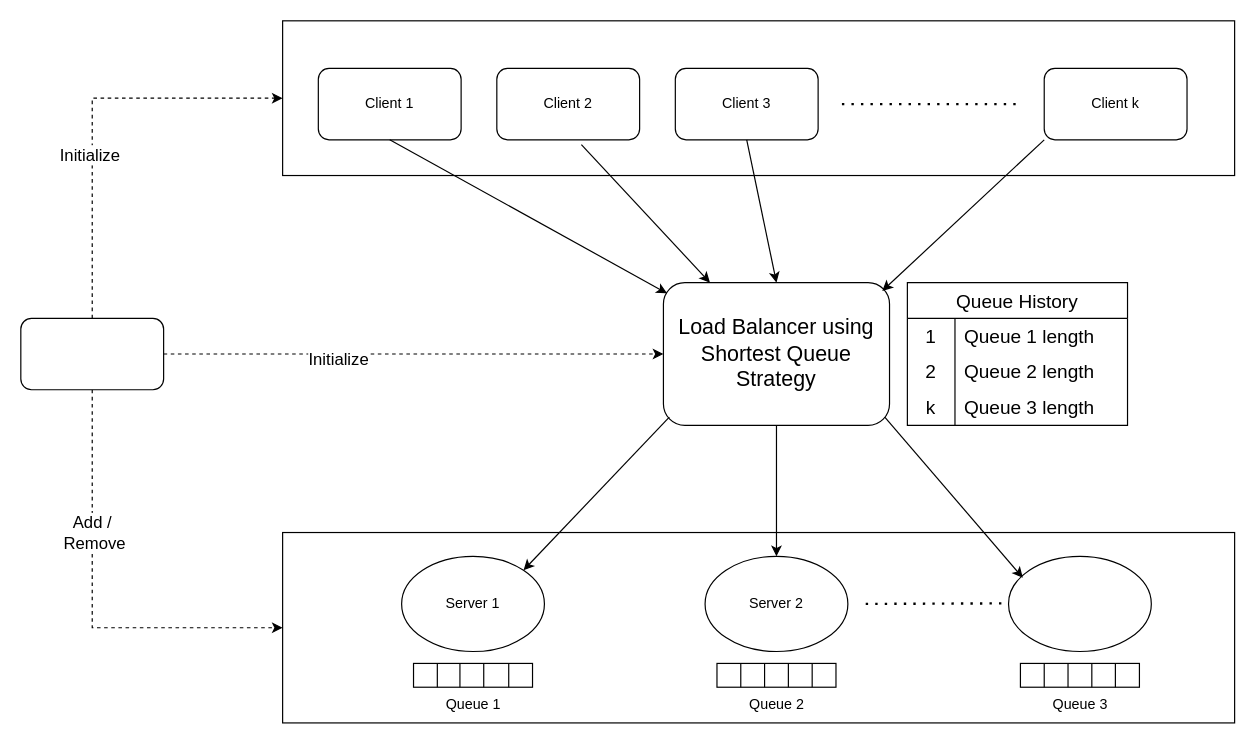
Some shapes in this 1255 by 744 pixel diagram are drawn without their labels. The centre of each missing label's shape, as x and y in pixels:
Controller: point (92, 353)
Server k: point (1079, 603)
